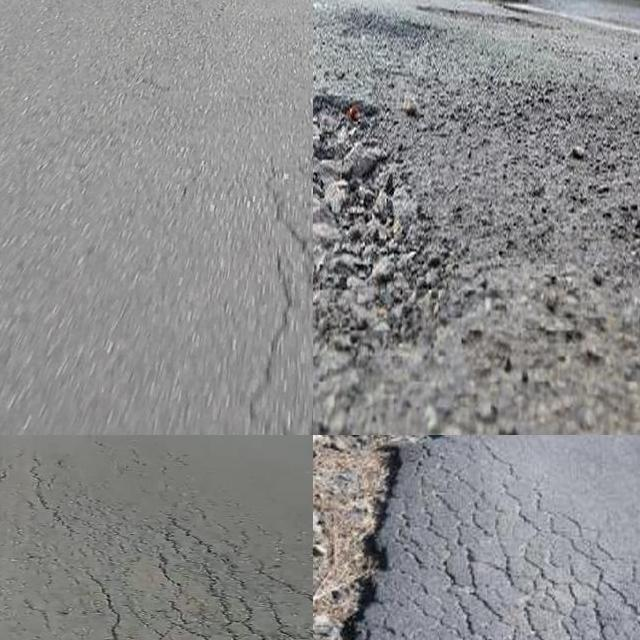Lubang: (313, 86, 454, 340)
Pinggir: (313, 435, 482, 640)
Retak Buaya: (376, 442, 640, 640), (104, 524, 313, 640)
